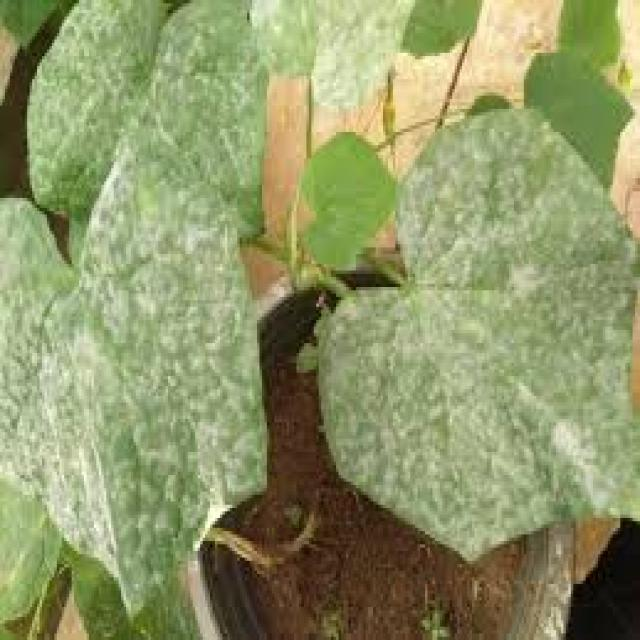powdery-mildew: (408, 155, 572, 602), (55, 164, 226, 588)
